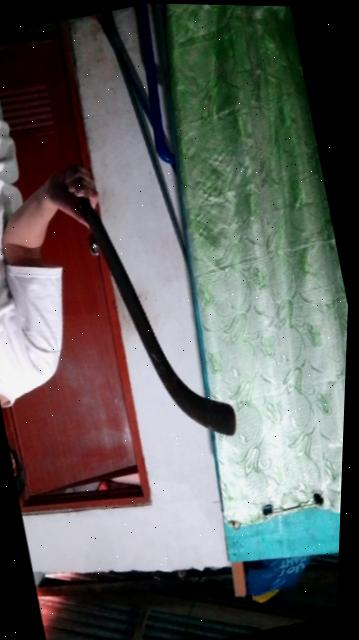long knife: (51, 138, 270, 470)
